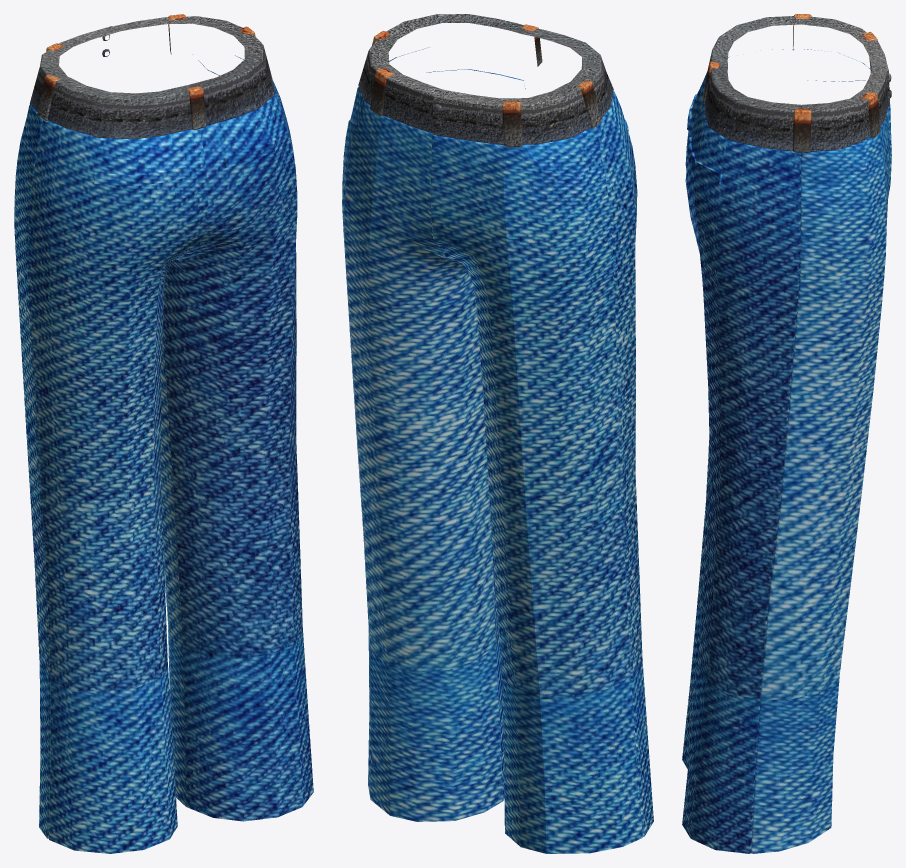
File: CowBoyLong_Pants.gltf
3 renders of one model, left to right at view 1: azimuth 30°, elevation 25°; view 2: azimuth 150°, elevation 25°; view 3: azimuth 270°, elevation 25°, orthographic. The views are drawn at different scales.
Visible parts, largest first — view 1: CowBoyLong_Pants; view 2: CowBoyLong_Pants; view 3: CowBoyLong_Pants.
Part boxes in pixels (left/top/right/bottom): CowBoyLong_Pants: left=14, top=14, right=313, bottom=853; CowBoyLong_Pants: left=342, top=14, right=653, bottom=853; CowBoyLong_Pants: left=682, top=14, right=891, bottom=853.
Size of the model in its own units: 0.1909 by 0.5248 by 0.1366.
1 material, 1 textured.
